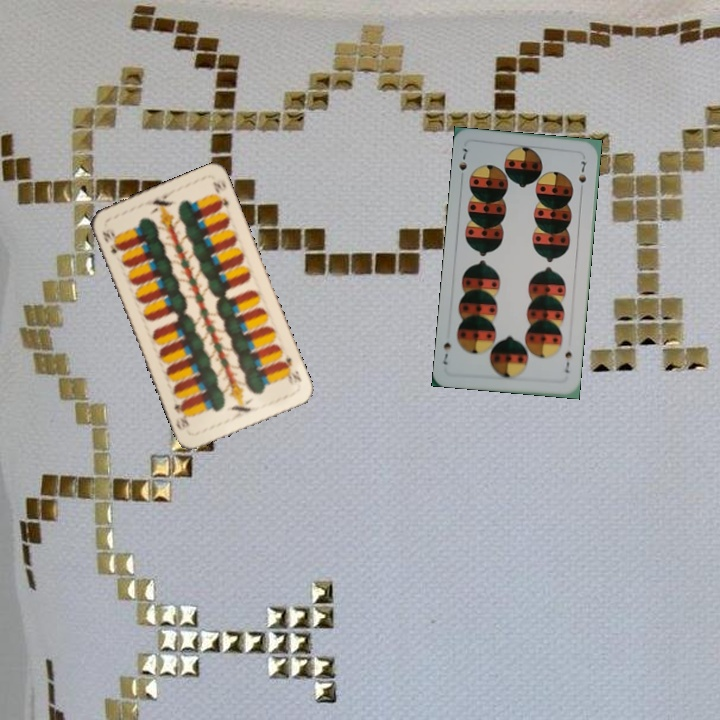E10: (278, 352, 304, 384), (99, 225, 123, 256)
S7: (455, 144, 470, 173), (561, 345, 574, 376)
